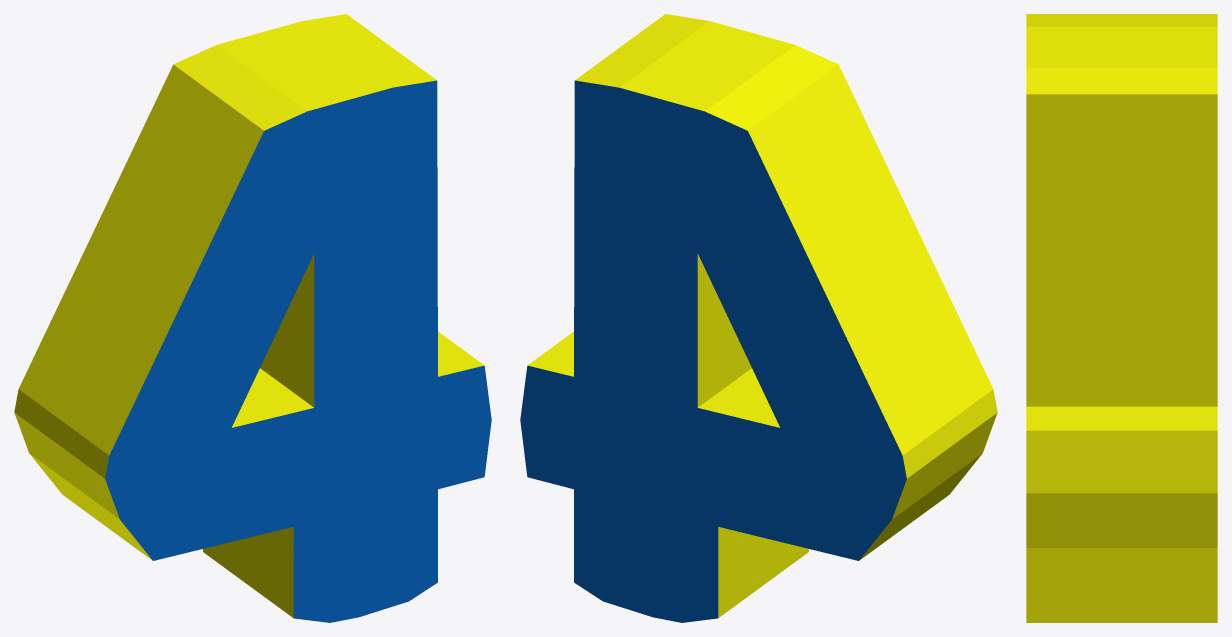
The picture shows the model from 3 angles, left to right: view 1: azimuth 30°, elevation 25°; view 2: azimuth 150°, elevation 25°; view 3: azimuth 270°, elevation 25°; orthographic projection. The views are drawn at different scales.
Parts seen in each view (by area): view 1: text: ABCDEFGHIJKLMNOPQRSTUVWXYZ01234567891_sep31_blue, text: ABCDEFGHIJKLMNOPQRSTUVWXYZ01234567891_sep31_yellow; view 2: text: ABCDEFGHIJKLMNOPQRSTUVWXYZ01234567891_sep31_blue, text: ABCDEFGHIJKLMNOPQRSTUVWXYZ01234567891_sep31_yellow; view 3: text: ABCDEFGHIJKLMNOPQRSTUVWXYZ01234567891_sep31_yellow.
Part boxes in pixels (x1,y1,x2,y2): text: ABCDEFGHIJKLMNOPQRSTUVWXYZ01234567891_sep31_blue: (105, 80, 491, 622); text: ABCDEFGHIJKLMNOPQRSTUVWXYZ01234567891_sep31_yellow: (14, 14, 484, 617); text: ABCDEFGHIJKLMNOPQRSTUVWXYZ01234567891_sep31_blue: (520, 80, 906, 622); text: ABCDEFGHIJKLMNOPQRSTUVWXYZ01234567891_sep31_yellow: (527, 14, 997, 617); text: ABCDEFGHIJKLMNOPQRSTUVWXYZ01234567891_sep31_yellow: (1026, 14, 1217, 622).
Bounding box in the file's own units: 61.46 × 79.21 × 25.
